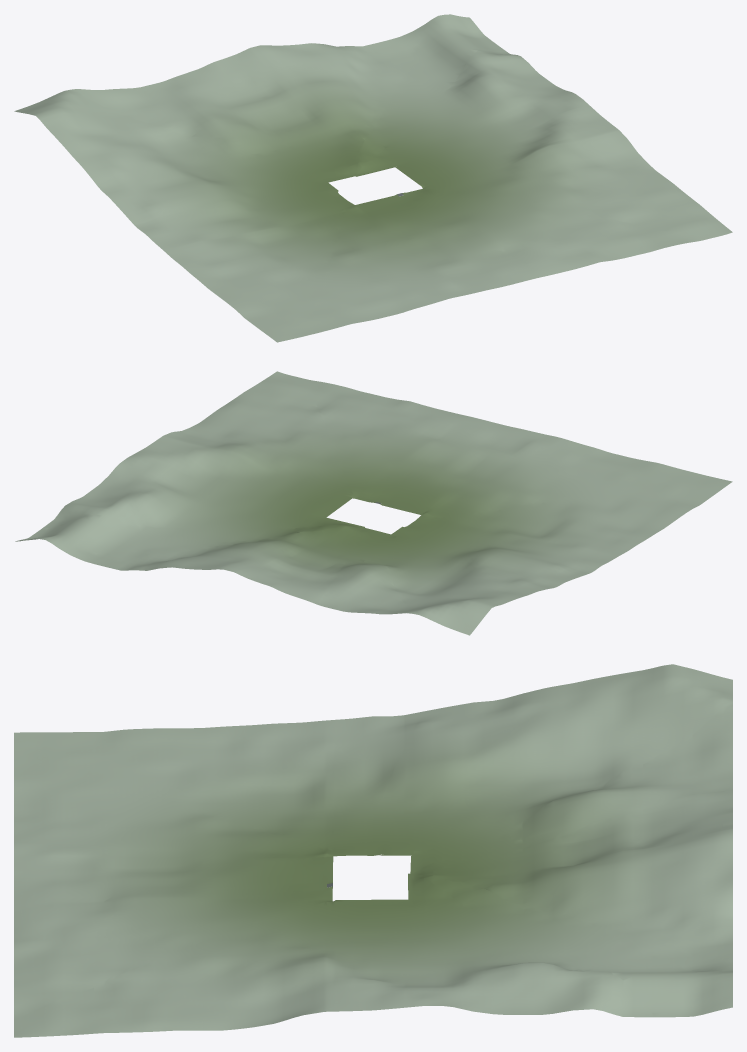
3 views of the same model, one above another, from view 1: azimuth 30°, elevation 25°; view 2: azimuth 150°, elevation 25°; view 3: azimuth 270°, elevation 25° (orthographic). The views are drawn at different scales.
Parts seen in each view (by area): view 1: surface_context-terrain; view 2: surface_context-terrain; view 3: surface_context-terrain.
Part boxes in pixels (bbox=[...]): surface_context-terrain: bbox=[14, 14, 732, 342]; surface_context-terrain: bbox=[15, 371, 732, 635]; surface_context-terrain: bbox=[14, 664, 732, 1037].
Size of the model in its own units: 900 by 99.55 by 900.
2 materials, 2 textured.
